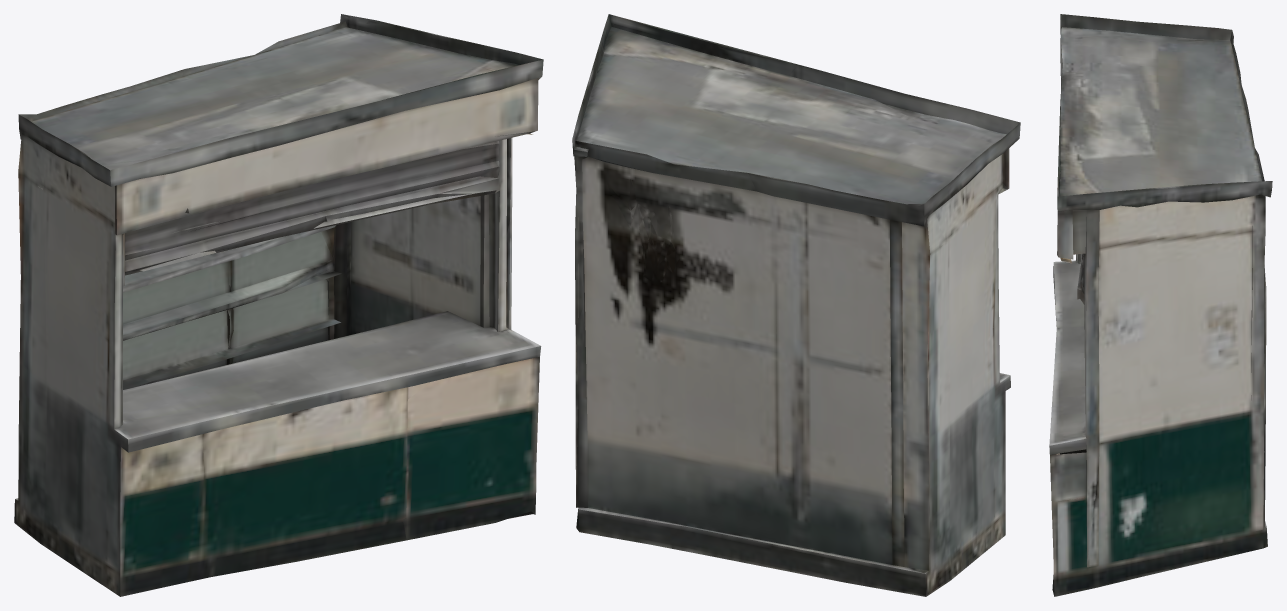
File: stall.glb
The picture shows the model from 3 angles, left to right: view 1: azimuth 30°, elevation 25°; view 2: azimuth 150°, elevation 25°; view 3: azimuth 270°, elevation 25°; orthographic projection. The views are drawn at different scales.
Visible parts, largest first — view 1: stall; view 2: stall; view 3: stall.
Boxes of the visible parts, x1,y1,x2,y2 form: stall: (14, 14, 543, 596); stall: (572, 14, 1020, 596); stall: (1049, 14, 1272, 596).
Bounding box in the file's own units: 2.4 × 2.4 × 1.2.
Materials: 1 (1 with a texture image).
